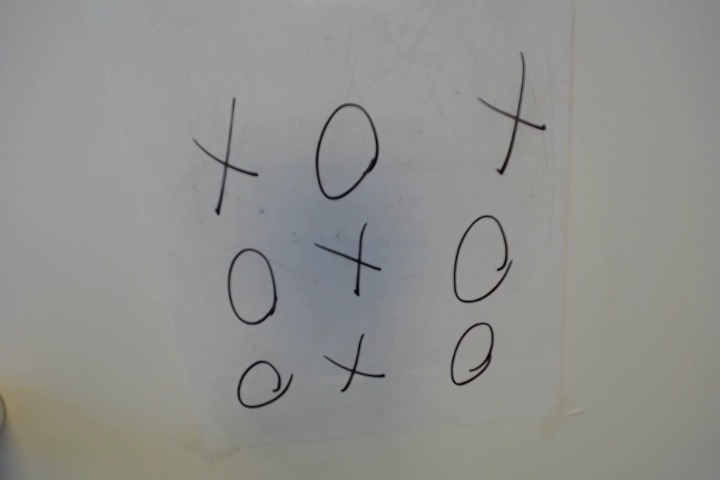0: (305, 101, 380, 206), (449, 212, 517, 309), (225, 244, 280, 326), (235, 358, 298, 416), (448, 320, 500, 389)
x: (181, 101, 277, 217), (472, 49, 552, 174), (311, 222, 385, 296), (325, 324, 386, 398)
